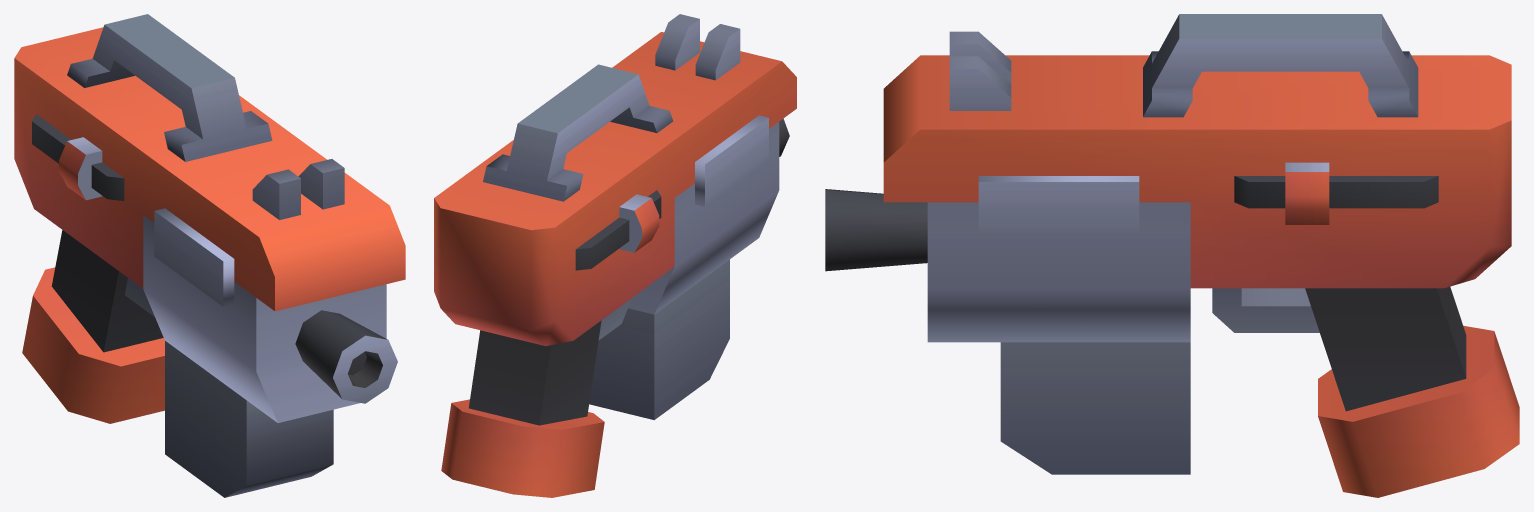
The picture shows the model from 3 angles, left to right: view 1: azimuth 30°, elevation 25°; view 2: azimuth 150°, elevation 25°; view 3: azimuth 270°, elevation 25°; orthographic projection. The views are drawn at different scales.
Visible parts, largest first — view 1: blaster-c; view 2: blaster-c; view 3: blaster-c.
Boxes of the visible parts, x1,y1,x2,y2 form: blaster-c: [14, 14, 405, 497]; blaster-c: [434, 14, 796, 497]; blaster-c: [825, 14, 1519, 497].
Bounding box in the file's own units: 0.125 × 0.2559 × 0.36.
1 material, 1 textured.
